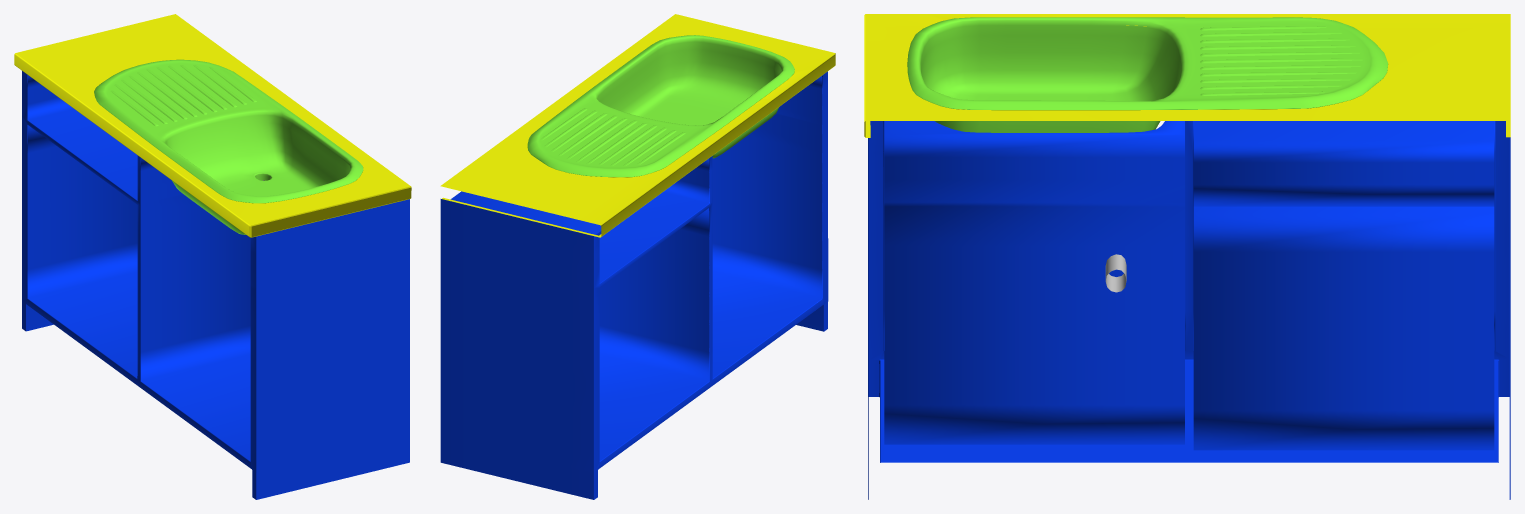
Rendered from SM_Kitchen_Sink_01.fbx.
3 renders of one model, left to right at view 1: azimuth 30°, elevation 25°; view 2: azimuth 150°, elevation 25°; view 3: azimuth 270°, elevation 25°, orthographic. The views are drawn at different scales.
Visible parts, largest first — view 1: Sink; view 2: Sink; view 3: Sink.
Part boxes in pixels (left/top/right/bottom): Sink: left=14, top=14, right=411, bottom=499; Sink: left=440, top=14, right=835, bottom=499; Sink: left=864, top=14, right=1510, bottom=499.
Size of what is drawn, in the model's own units: 58.12 by 91.34 by 139.
